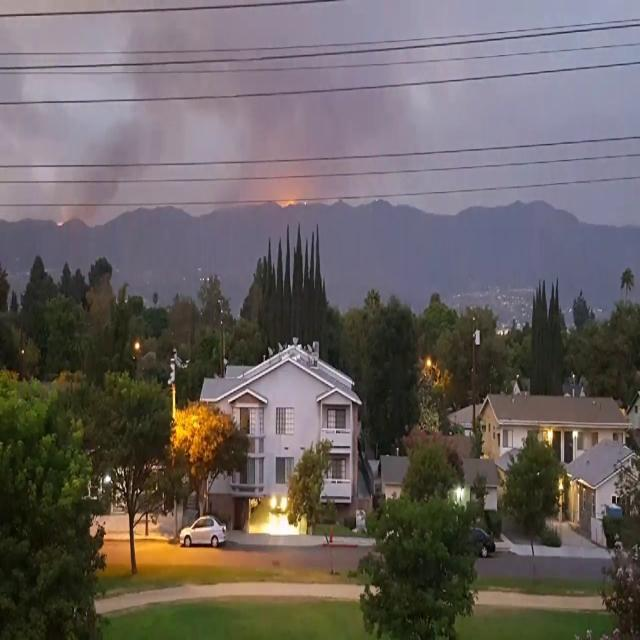Fire: (280, 198, 295, 208)
Smoke: (70, 0, 188, 214), (0, 36, 76, 140), (209, 135, 272, 202)
